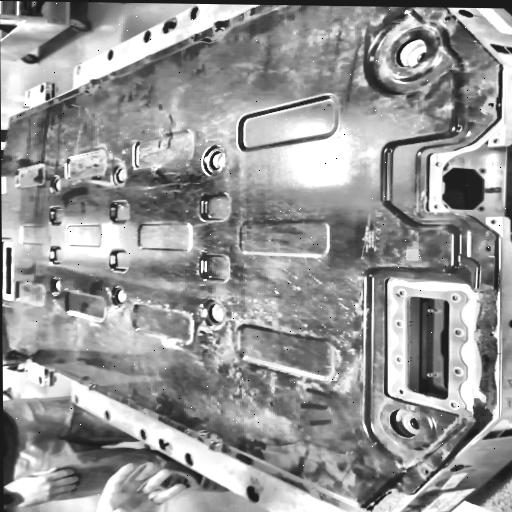b_casing: (1, 3, 509, 512)
